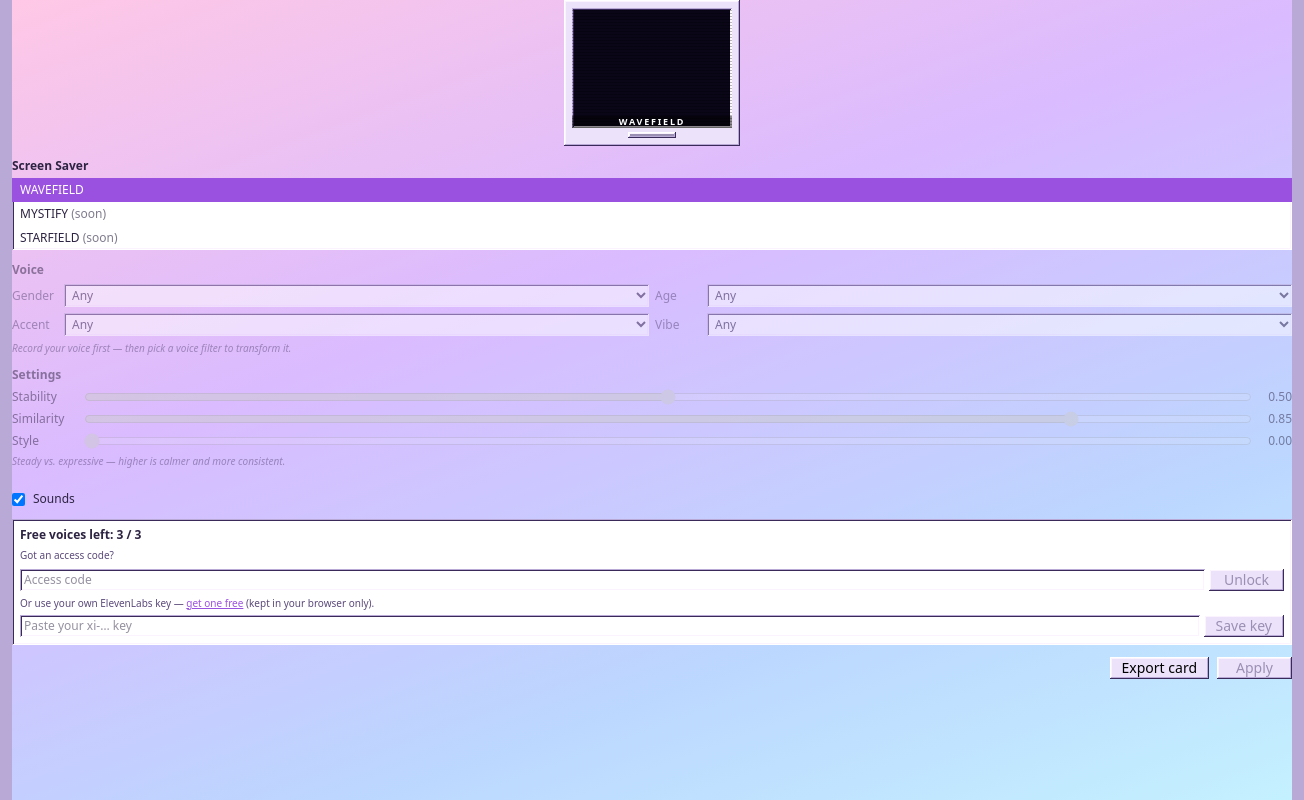
Test: FilterPicker › lets a visitor save their own ElevenLabs key
This screenshot has width=1304, height=800.
Step 1. Type "xi-mine" into the password field named "ElevenLabs API key" → (610, 626), box [20,615,1200,637]
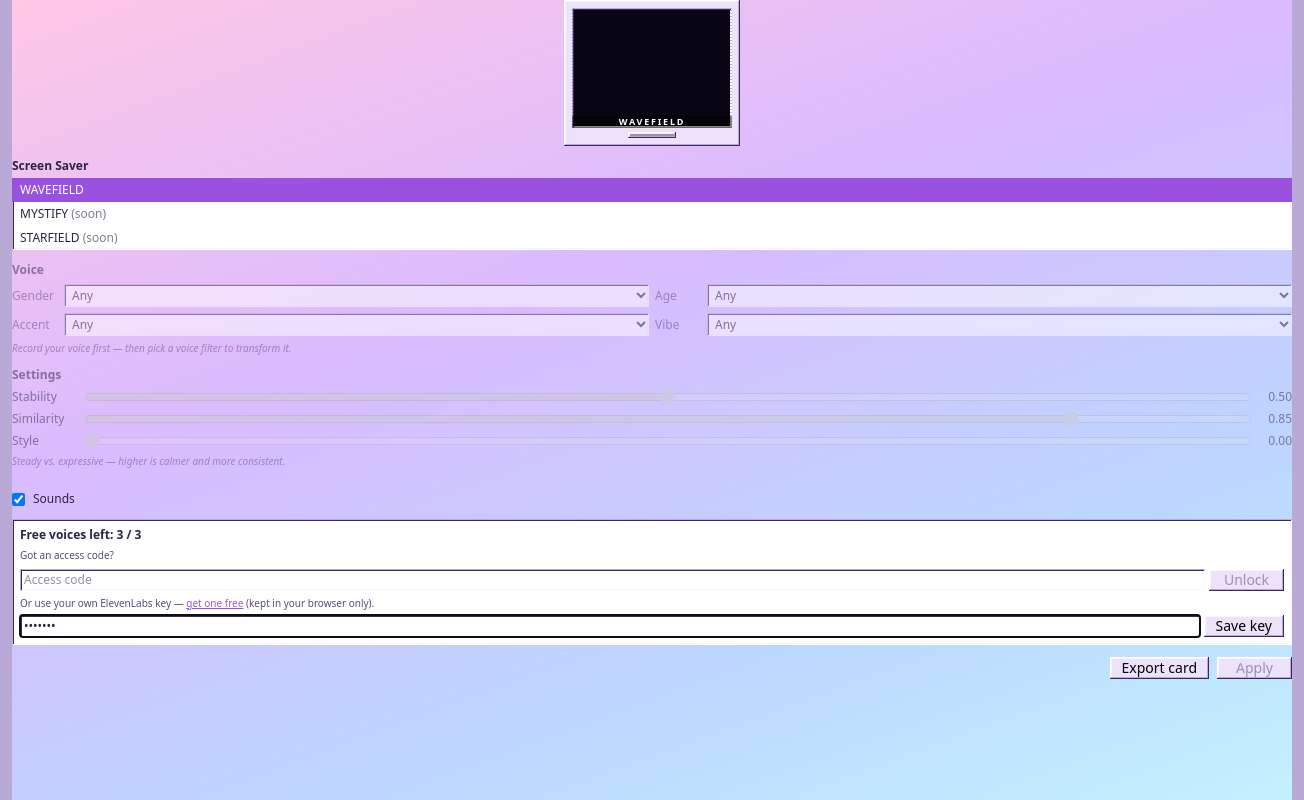
Step 2. Click the button "Save key" → (1244, 626), box [1204,615,1284,637]
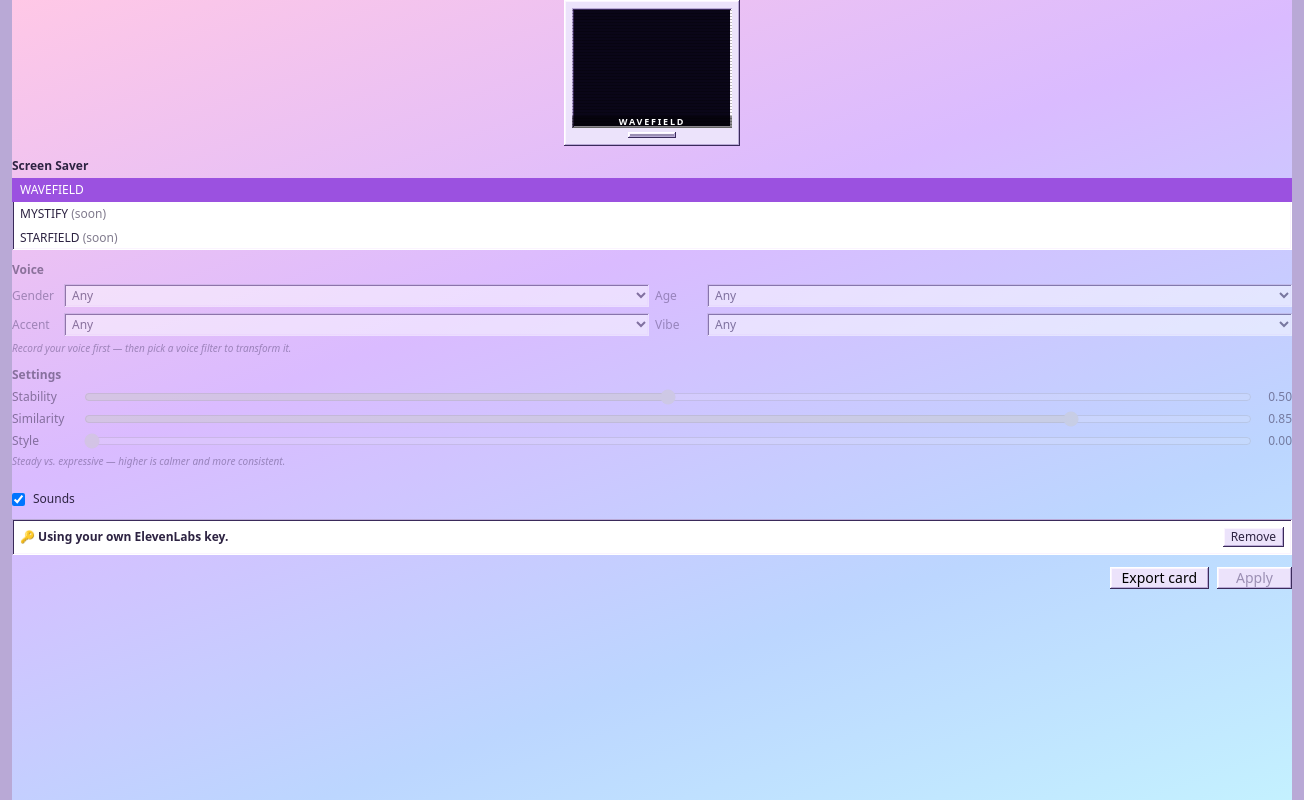
expect the text "🔑 Using your own ElevenLabs key." is shown: met, box [20,529,228,545]
